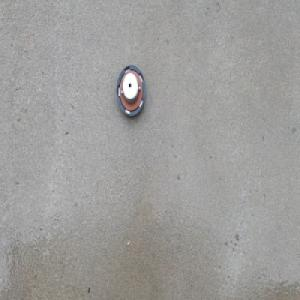FuelCap: (115, 62, 146, 117)
